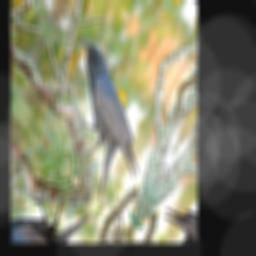Crow: (38, 31, 164, 219)
